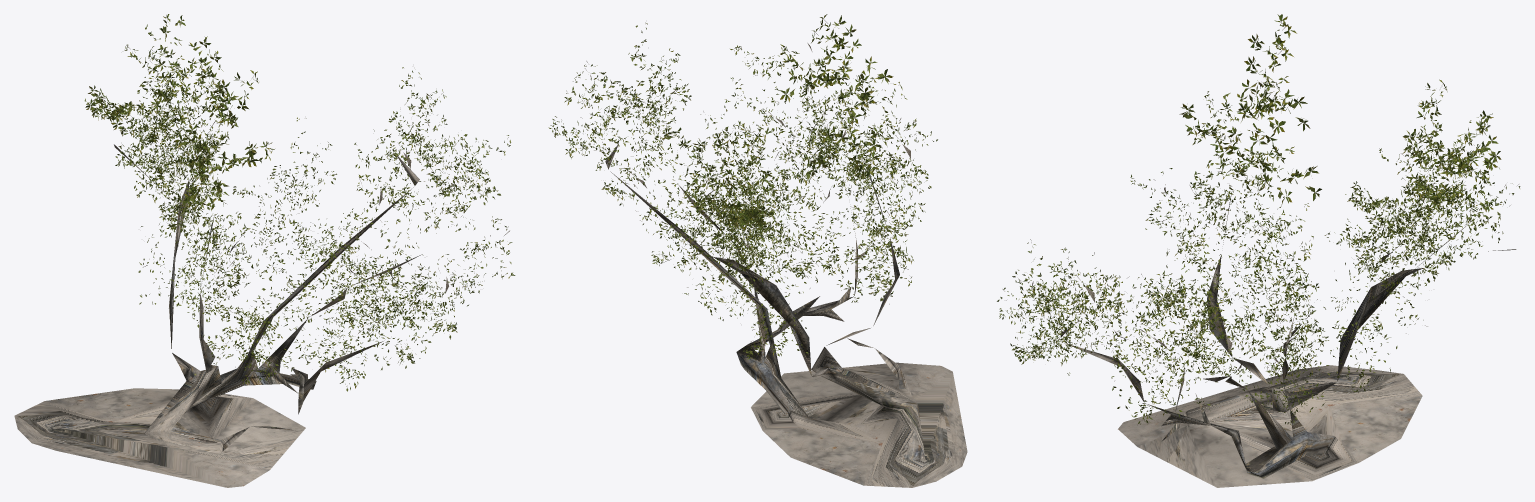
File: island_tree_03.glb
3 renders of one model, left to right at view 1: azimuth 30°, elevation 25°; view 2: azimuth 150°, elevation 25°; view 3: azimuth 270°, elevation 25°, orthographic. The views are drawn at different scales.
Visible parts, largest first — view 1: island_tree_03_LOD0; view 2: island_tree_03_LOD0; view 3: island_tree_03_LOD0.
Part boxes in pixels (bbox=[...]): island_tree_03_LOD0: bbox=[14, 14, 515, 487]; island_tree_03_LOD0: bbox=[548, 14, 967, 487]; island_tree_03_LOD0: bbox=[997, 14, 1520, 487].
Size of the model in its own units: 2.94 by 2.61 by 2.89.
Materials: 3 (3 with a texture image).
